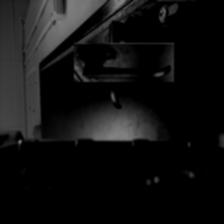Door Handle: (90, 28, 159, 97)
Lock: (158, 0, 196, 41)
